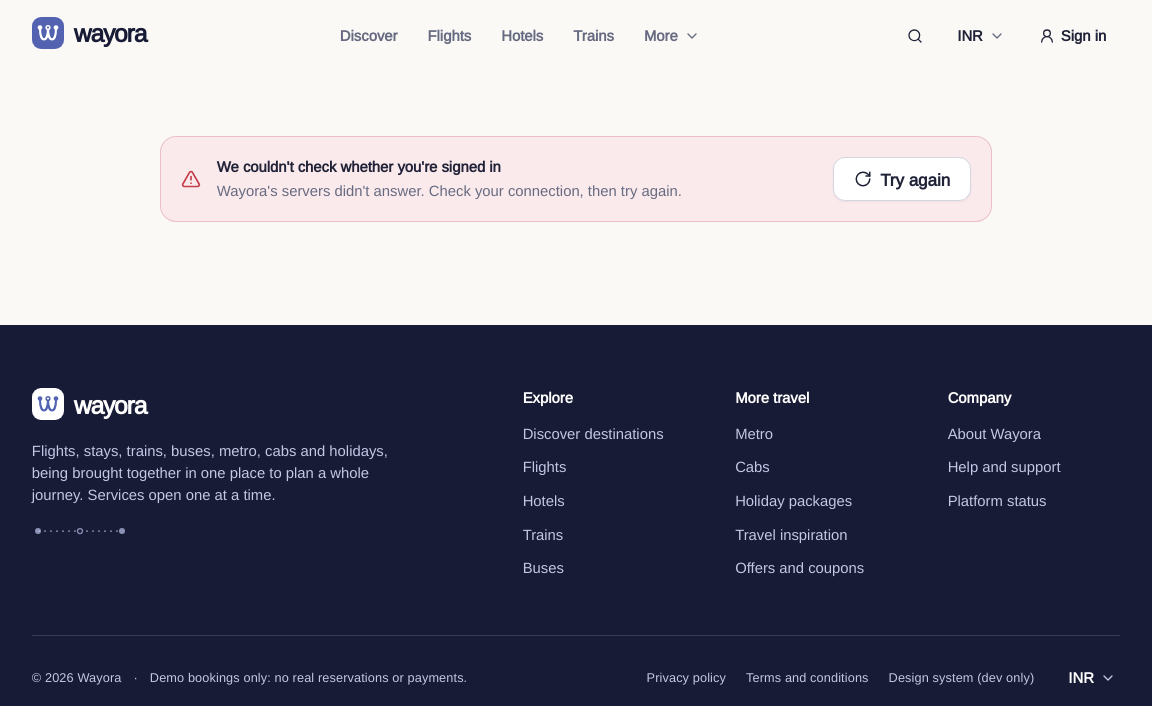
Scenario: protected routes › treats a server error from the session check as a failed check, not as signed out
The width and height of the screenshot is (1152, 706).
Check: the text "We couldn't check whether you're signed in" is shown, box [217, 157, 501, 175]
Click the button "Try again" at (902, 179), box [833, 157, 971, 201]
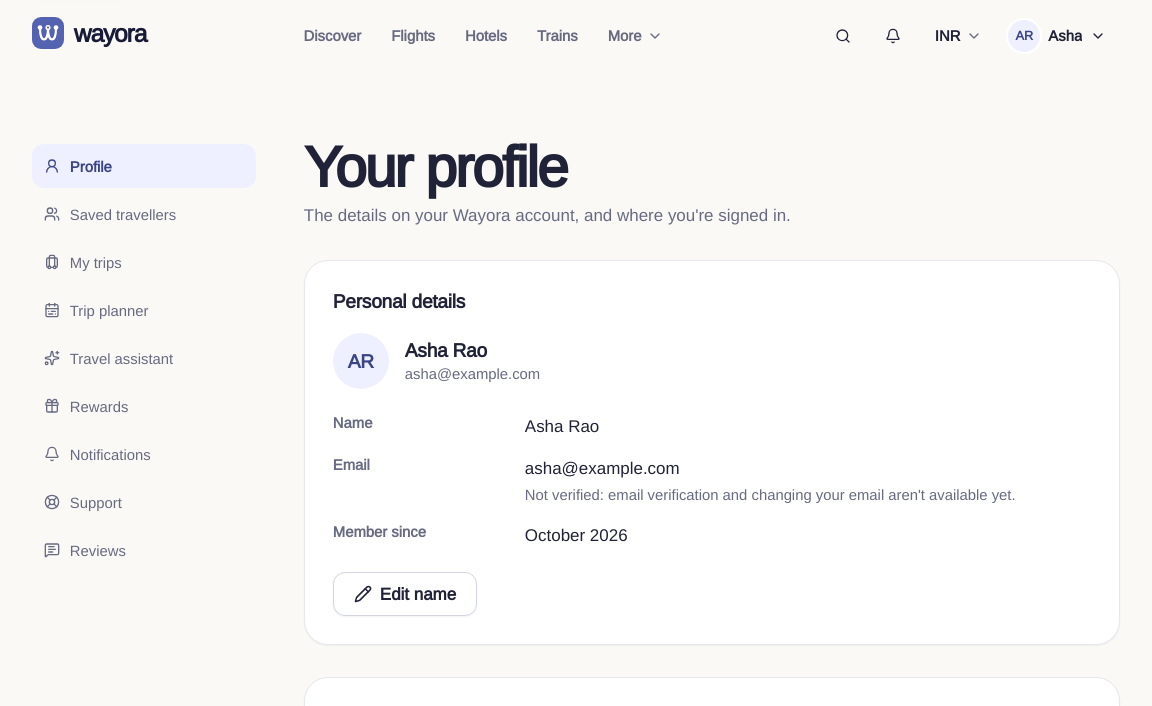
Check: the heading "Your profile" is shown, box [304, 131, 567, 199]
